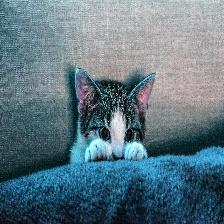kedo: (72, 68, 155, 159)
